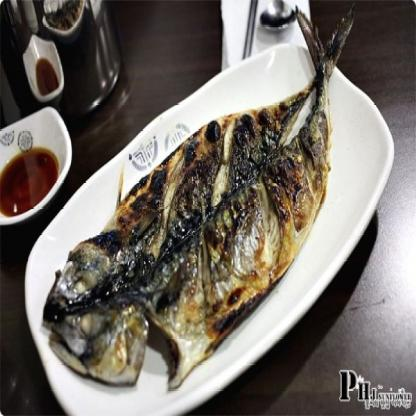Peixe: (42, 0, 369, 393)
